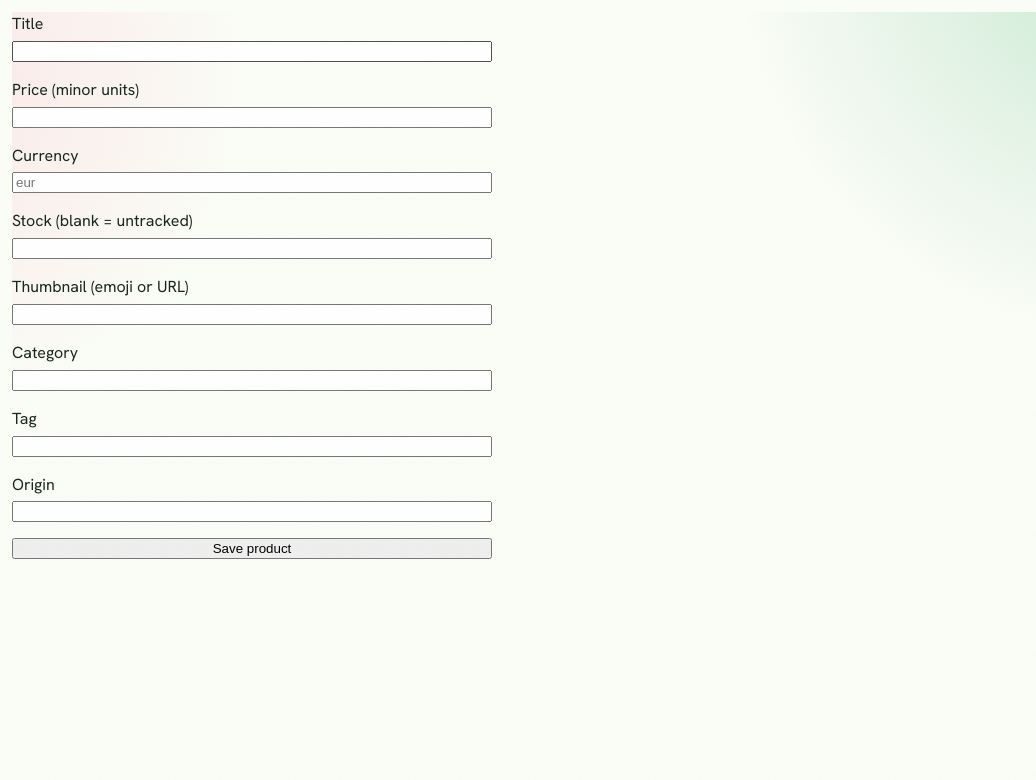
Test: AdminProductForm › shows validation errors instead of submitting
This screenshot has width=1036, height=780.
Click the button "Save product" at (252, 549), box [12,538,492,559]
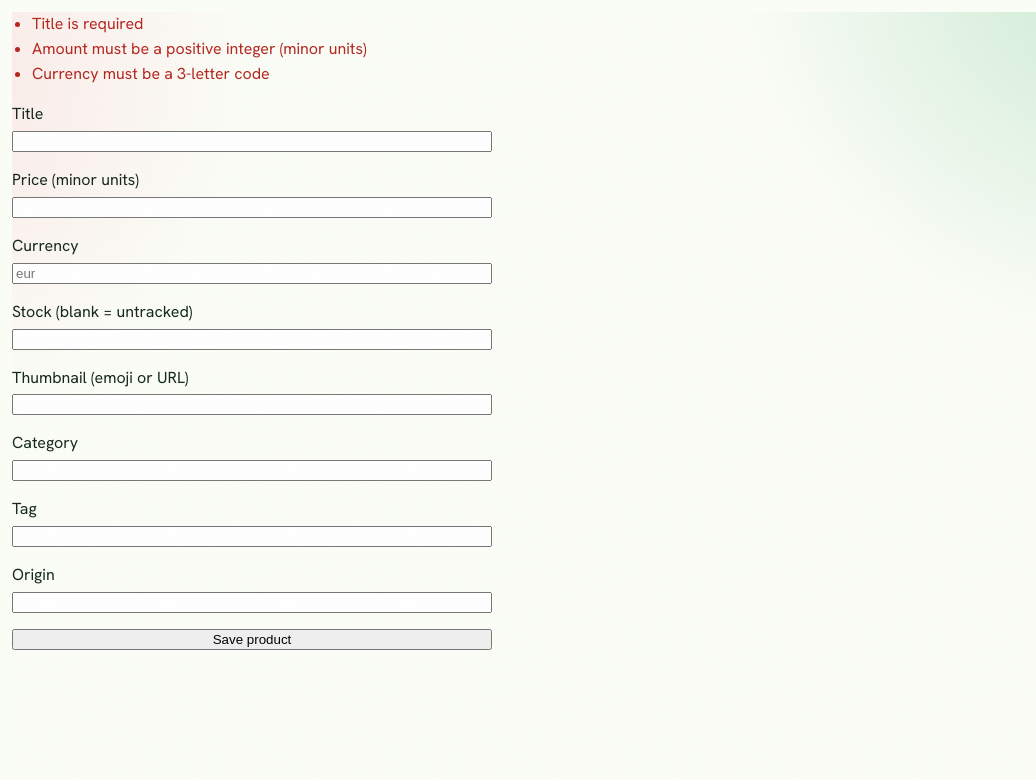
Now the list item "Title is required" is shown, box [32,13,144,34]
